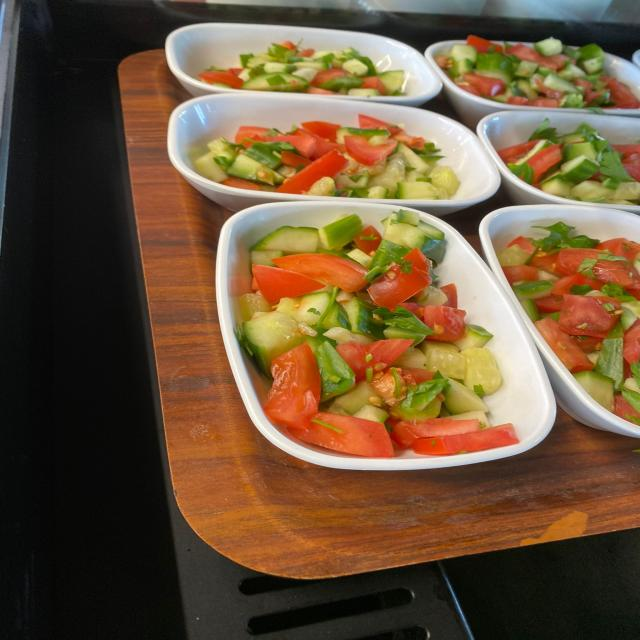yan_yemek: (231, 208, 523, 461), (172, 103, 450, 189), (189, 26, 421, 96), (444, 40, 606, 106)
